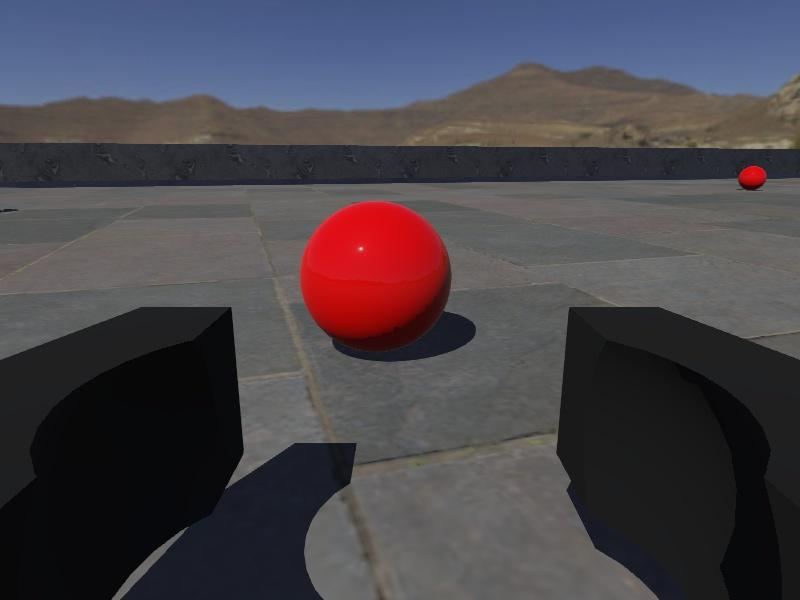red ball: (299, 198, 452, 355), (738, 164, 768, 191)
